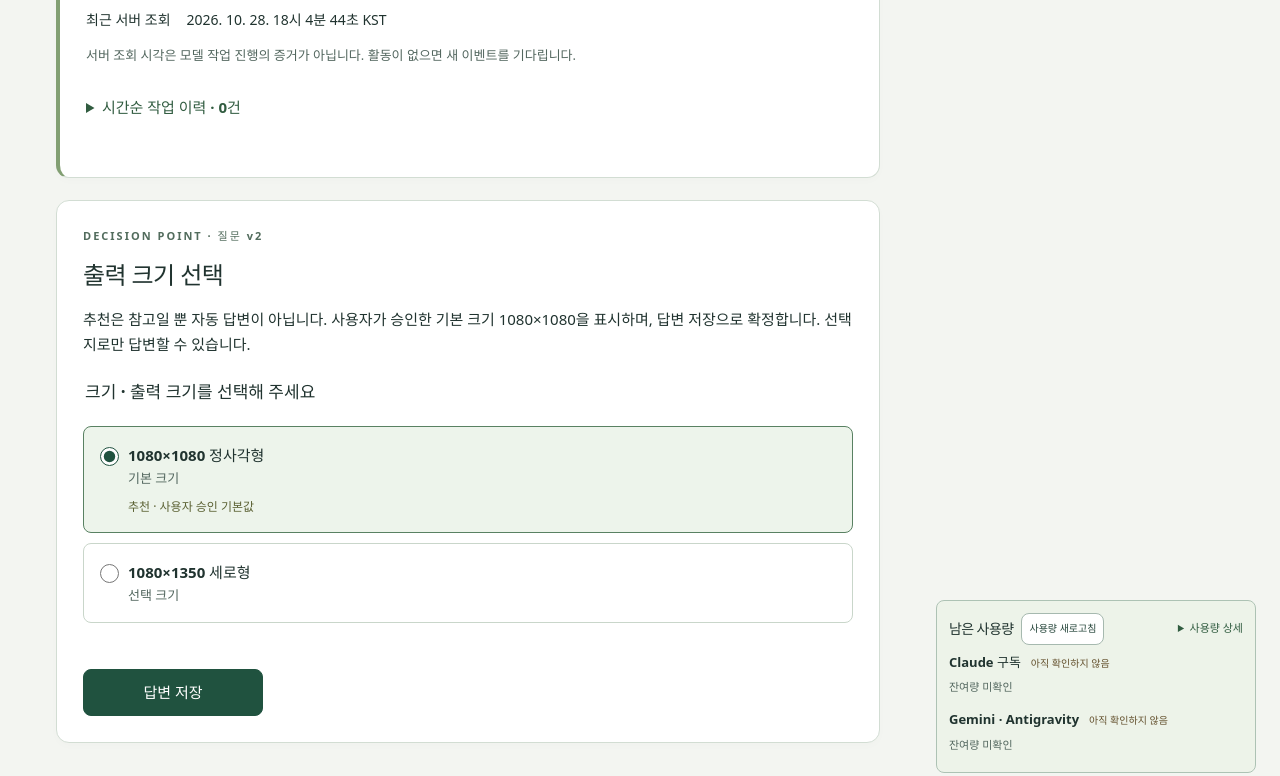
모의 화면 흐름 — 실제 조사/생성 아님 › 크기가 없으면 출력 크기 질문을 먼저 표시하고 두 크기를 고를 수 있다
This screenshot has width=1280, height=776.
(page scrolled)
Expected: the radio button labelled "1080×1080 정사각형 기본 크기 추천 · 사용자 승인 기본값" is checked, [100,447,119,466]
Click the radio button labelled "1080×1350 세로형 선택 크기".
click(110, 574)  # box [100,564,119,583]
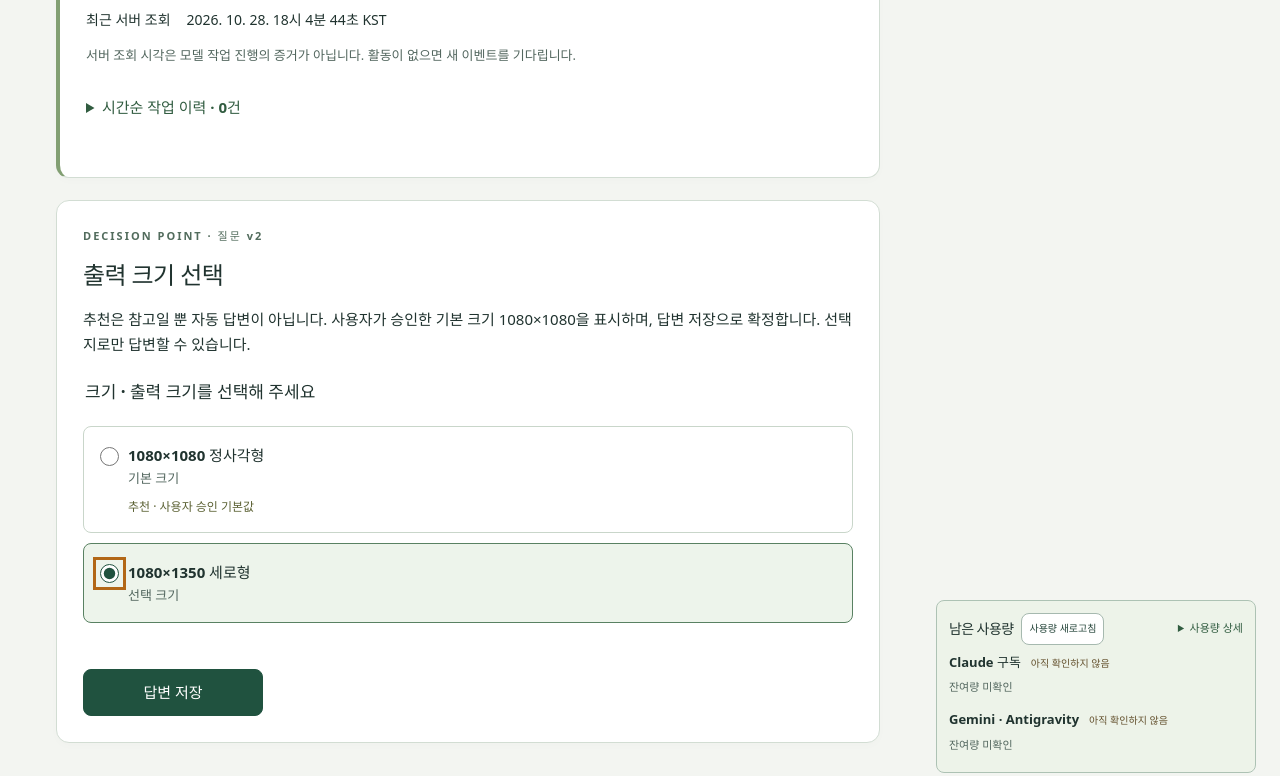
Click the button "답변 저장".
click(173, 693)  # box [83,670,263,716]
(page scrolled)
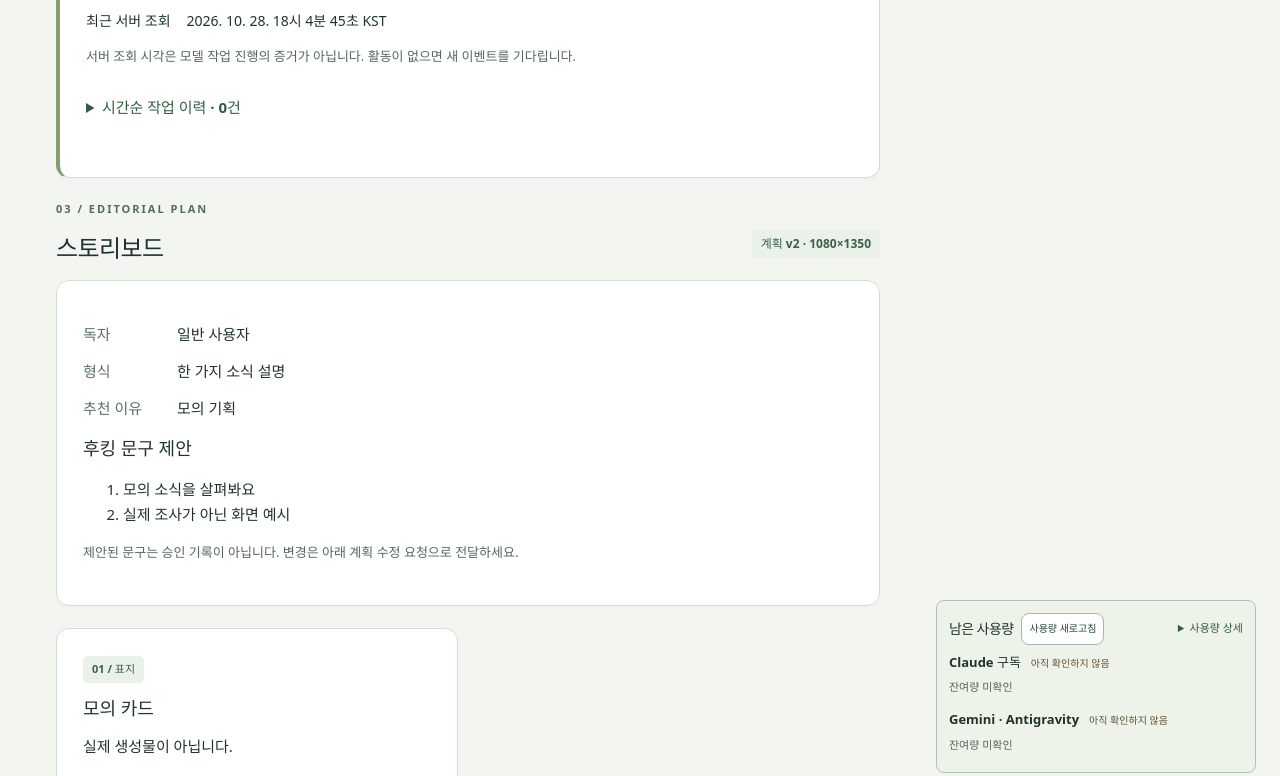
Expected: the heading "스토리보드" is shown, [56,230,163,266]
Expected: the text "계획 v2 · 1080×1350" is shown, [752,230,880,258]
